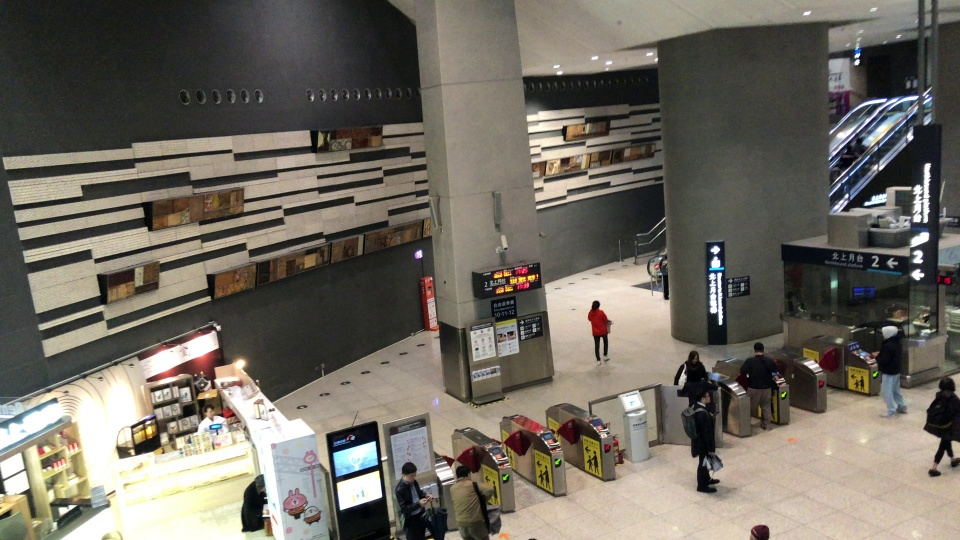person_head: (401, 462, 417, 482), (938, 376, 956, 391), (454, 465, 472, 478), (254, 474, 266, 493), (695, 388, 710, 403), (881, 325, 898, 338), (203, 403, 216, 419), (688, 350, 699, 363), (753, 342, 764, 355), (591, 299, 600, 310), (845, 143, 852, 150), (856, 137, 863, 144), (834, 163, 842, 168), (664, 253, 667, 258)
person_vbox: (679, 389, 720, 485), (922, 377, 959, 478), (739, 342, 779, 432), (449, 464, 494, 540), (392, 461, 434, 540), (872, 324, 908, 416), (673, 350, 706, 405), (587, 299, 612, 365), (240, 474, 267, 530), (197, 402, 227, 436), (658, 253, 669, 300), (839, 143, 855, 169), (828, 163, 843, 185), (854, 137, 866, 155)
